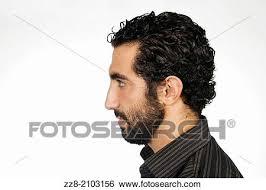middle_eastern_male: (105, 23, 188, 139)
